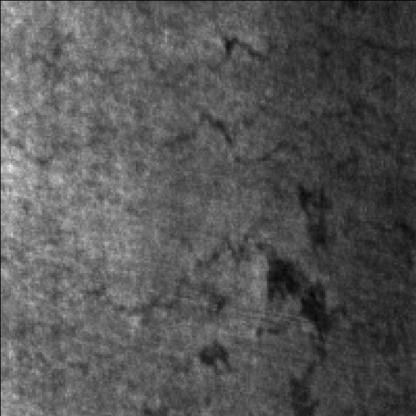crazing: (4, 39, 285, 171), (27, 197, 254, 327)
patches: (256, 185, 341, 347)
